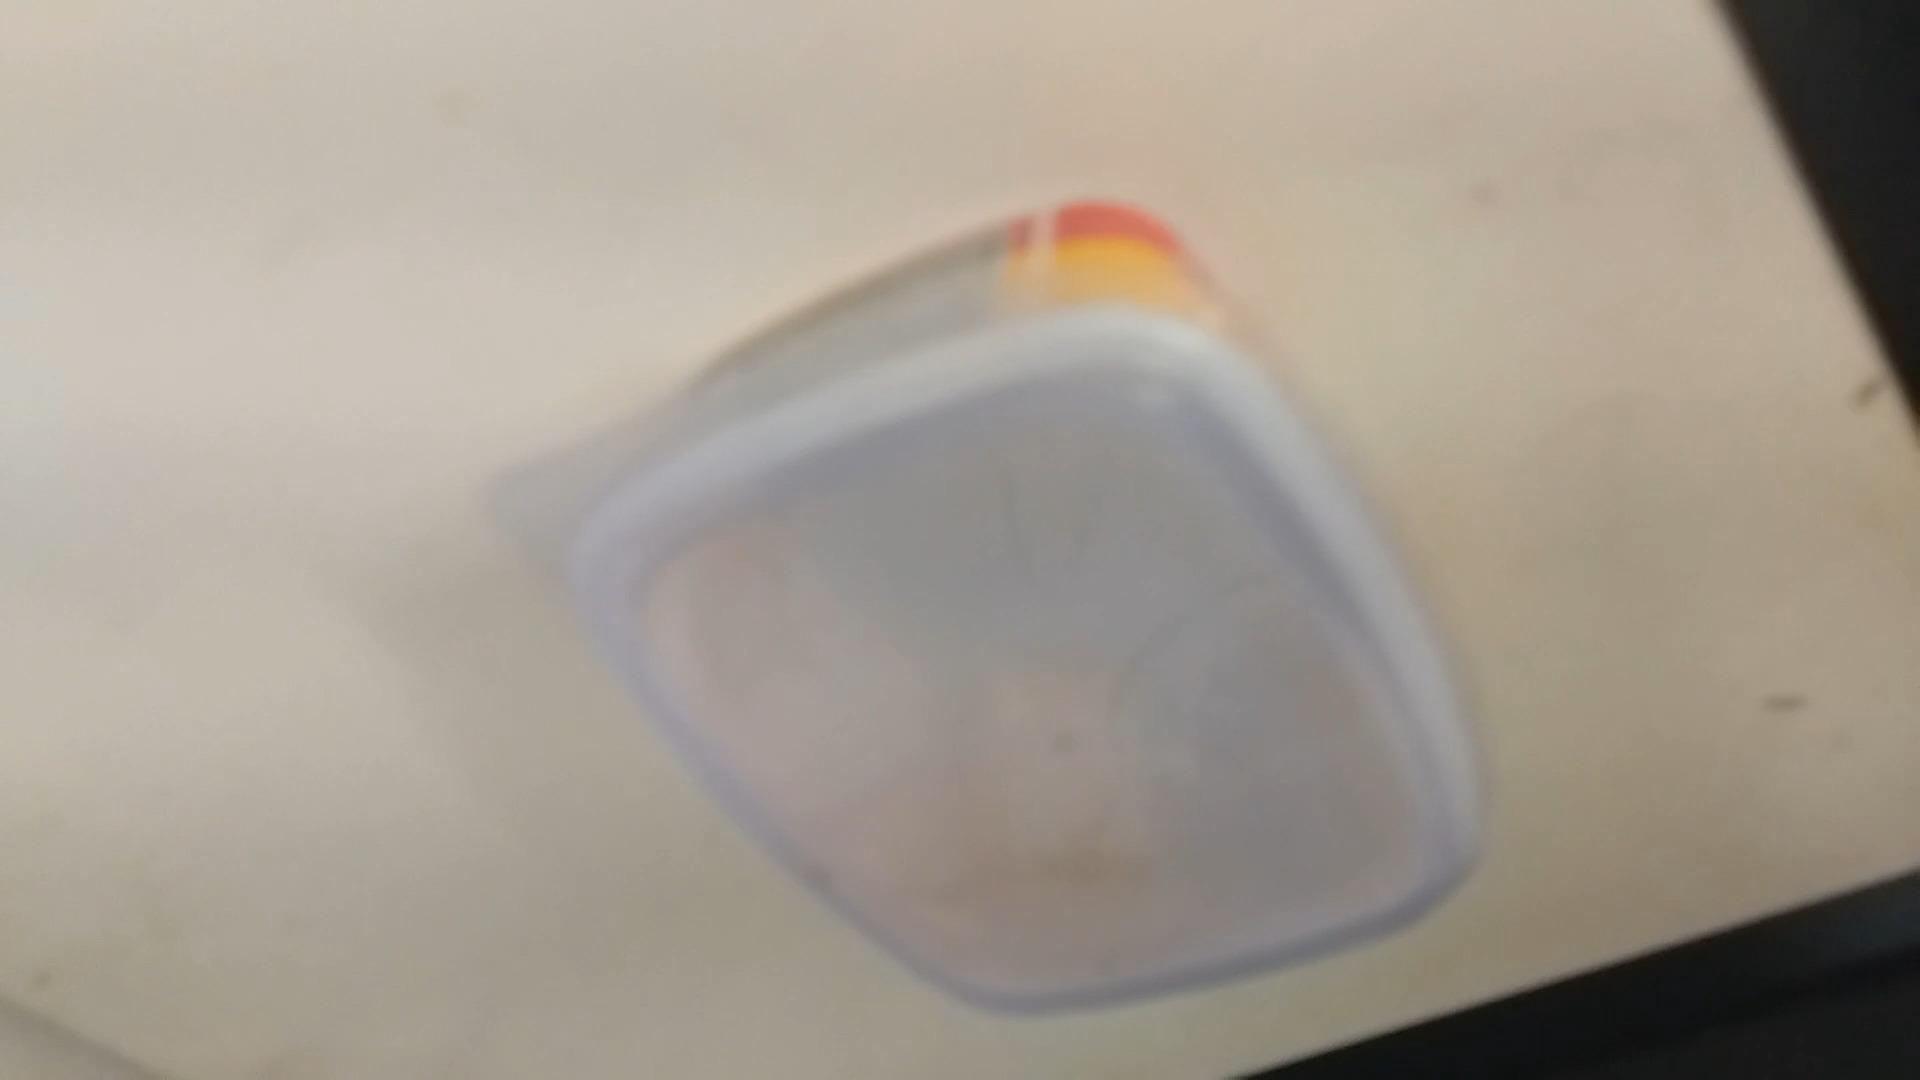butter: (542, 214, 1480, 1022)
